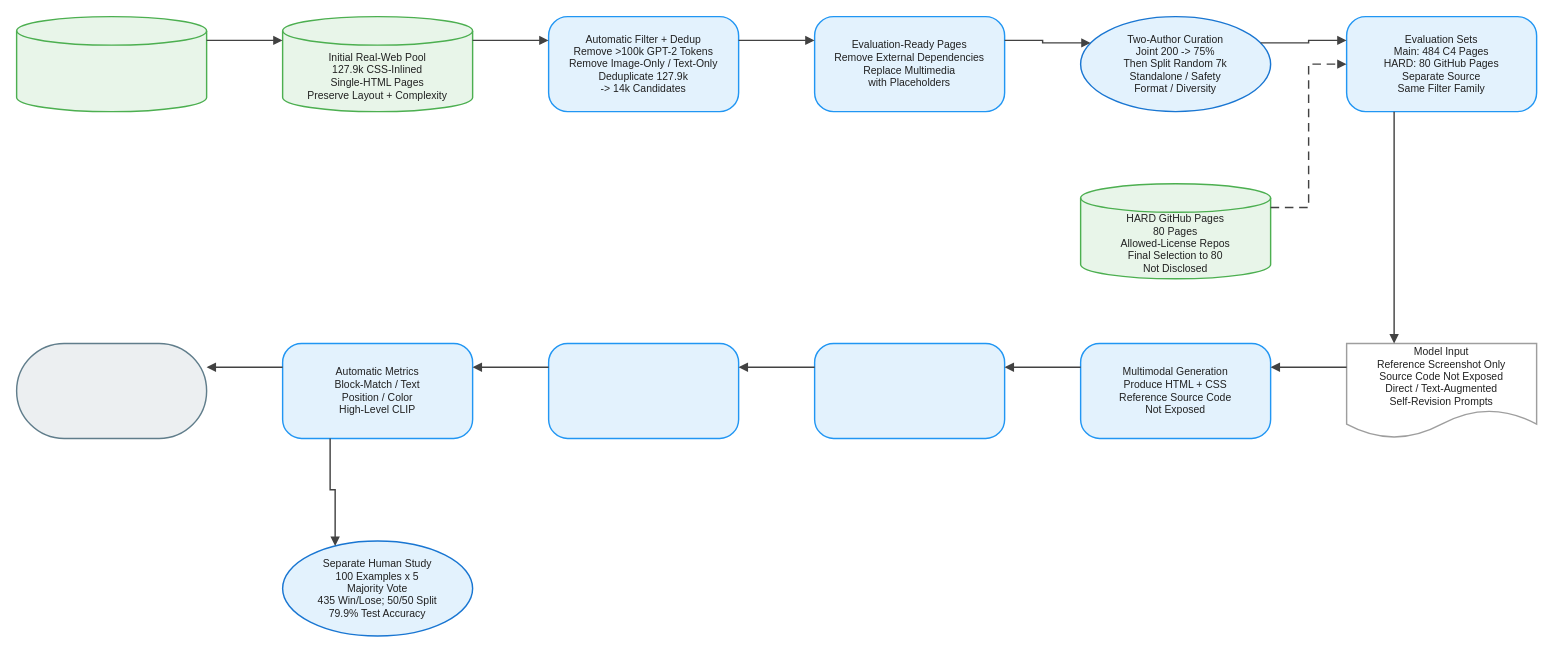
This 1554x654 diagram has some shape labels left out. Here are the shapes that lost their labels. From the top down, the centre of each, then its label:
At point (111, 63): "C4 Validation Links Scrape Real Webpages Inline All CSS One HTML File per Page".
At point (111, 390): "Design2Code Results Block-Match / Text Position / Color Main + HARD CLIP".
At point (643, 390): "Element Matching Text + Non-Text Blocks Hungarian Assignment by Text Similarity".
At point (909, 390): "Browser Rendering Execute Generated Code Capture Generated Webpage Screenshot".
